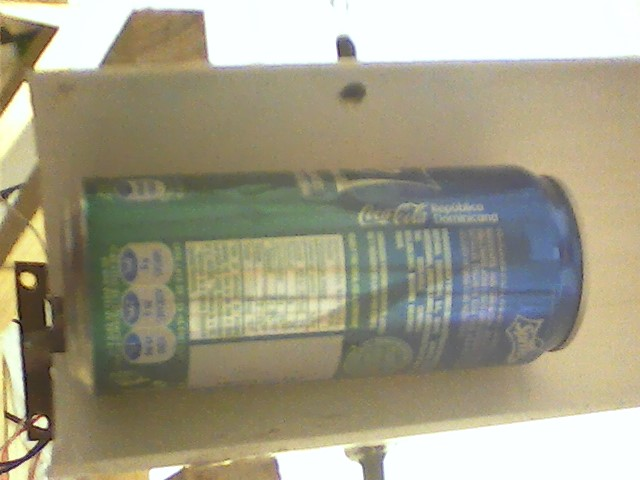lata: (54, 157, 591, 402)
